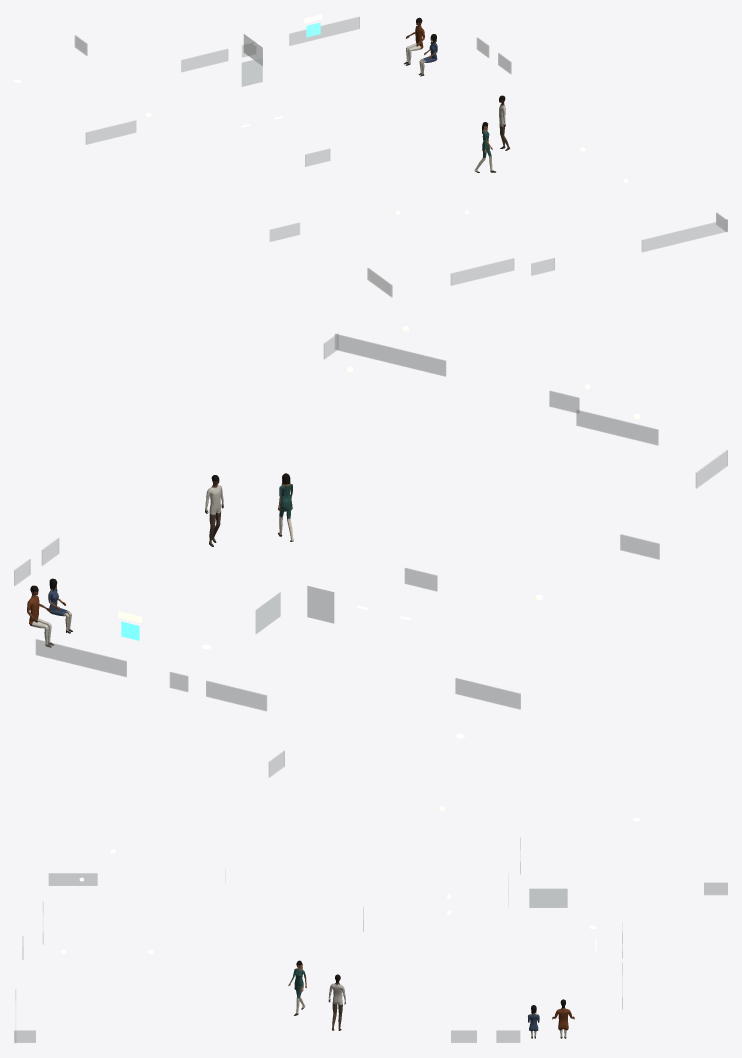
The model's file is first-fixtures.gltf.
3 renders of one model, top to bottom at view 1: azimuth 30°, elevation 25°; view 2: azimuth 150°, elevation 25°; view 3: azimuth 270°, elevation 25°, orthographic. The views are drawn at different scales.
Parts seen in each view (by area): view 1: first.baked.glass.001, first.baked.flat.001, first.baked.glow.001; view 2: first.baked.glass.001, first.baked.flat.001, first.baked.glow.001; view 3: first.baked.glass.001, first.baked.flat.001.
Boxes of the visible parts, x1,y1,x2,y2 form: first.baked.glass.001: (74, 17, 727, 297); first.baked.flat.001: (404, 17, 510, 172); first.baked.glow.001: (14, 14, 628, 214); first.baked.glass.001: (14, 333, 727, 777); first.baked.flat.001: (27, 473, 293, 647); first.baked.glow.001: (118, 326, 640, 738); first.baked.glass.001: (14, 837, 727, 1043); first.baked.flat.001: (288, 960, 574, 1038).
Bounding box in the file's own units: 5.44 × 0.9234 × 8.17.
